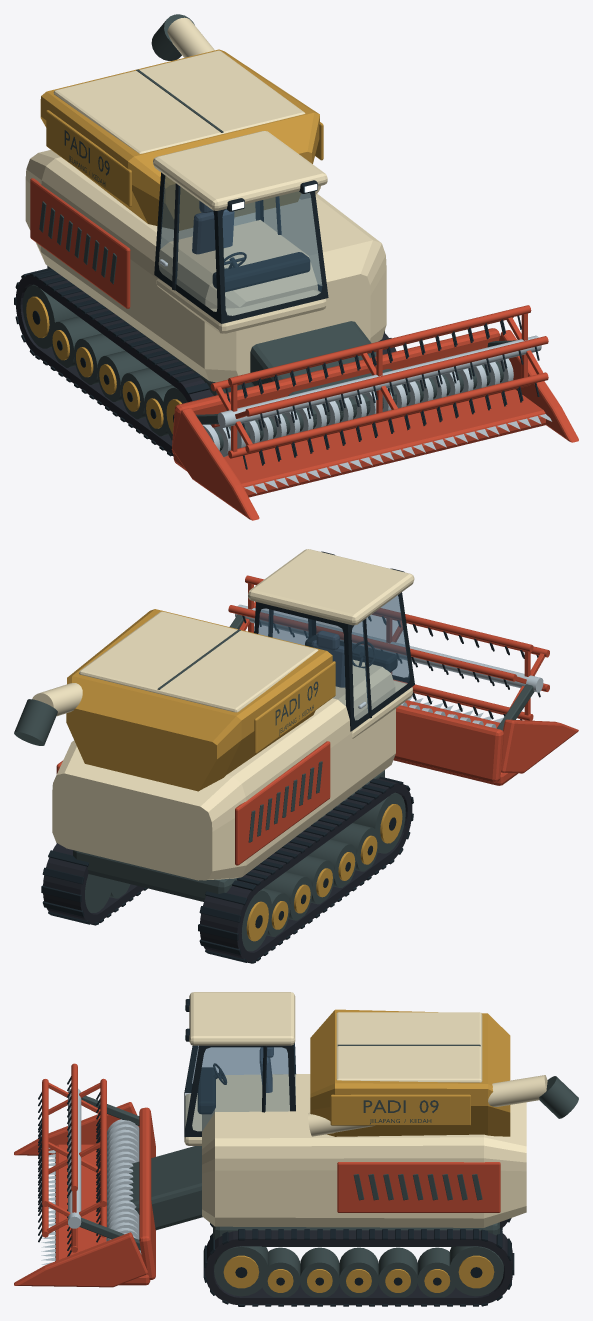
The picture shows the model from 3 angles, top to bottom: view 1: azimuth 30°, elevation 25°; view 2: azimuth 150°, elevation 25°; view 3: azimuth 270°, elevation 25°; orthographic projection. The views are drawn at different scales.
Parts seen in each view (by area): view 1: Kedah Tracked Padi Combine; view 2: Kedah Tracked Padi Combine; view 3: Kedah Tracked Padi Combine.
Boxes of the visible parts, x1,y1,x2,y2 form: Kedah Tracked Padi Combine: (14, 14, 578, 520); Kedah Tracked Padi Combine: (14, 549, 578, 963); Kedah Tracked Padi Combine: (14, 992, 578, 1306).
Size of the model in its own units: 3.88 by 3.15 by 6.87.
